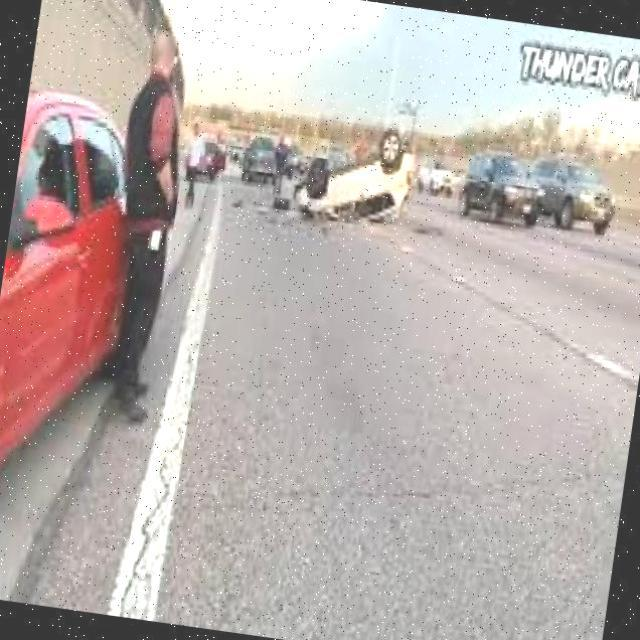accident: (265, 111, 442, 237)
